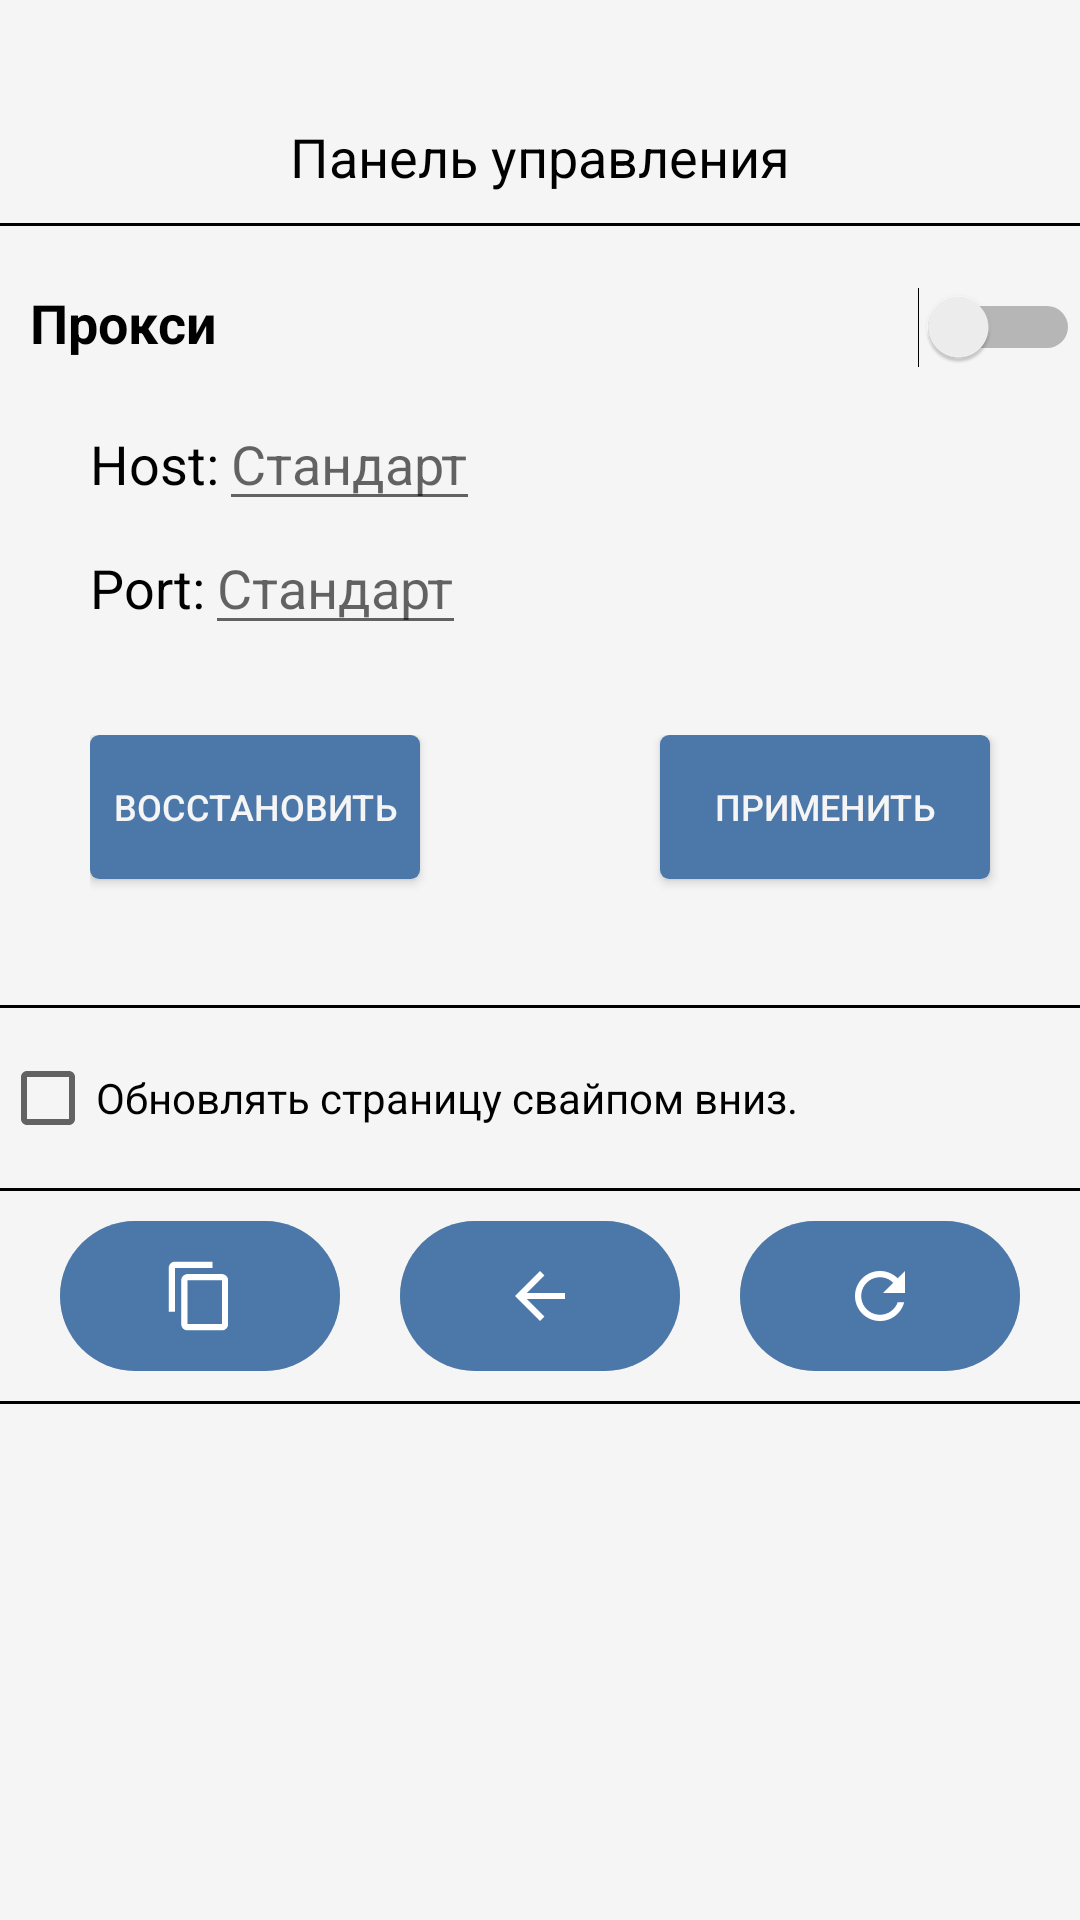

Screen size 1080 x 1920. Icon name, then its box in pixels as (x1, y1, x2, y2):
back: (400, 1221, 680, 1371)
refresh: (740, 1221, 1020, 1371)
